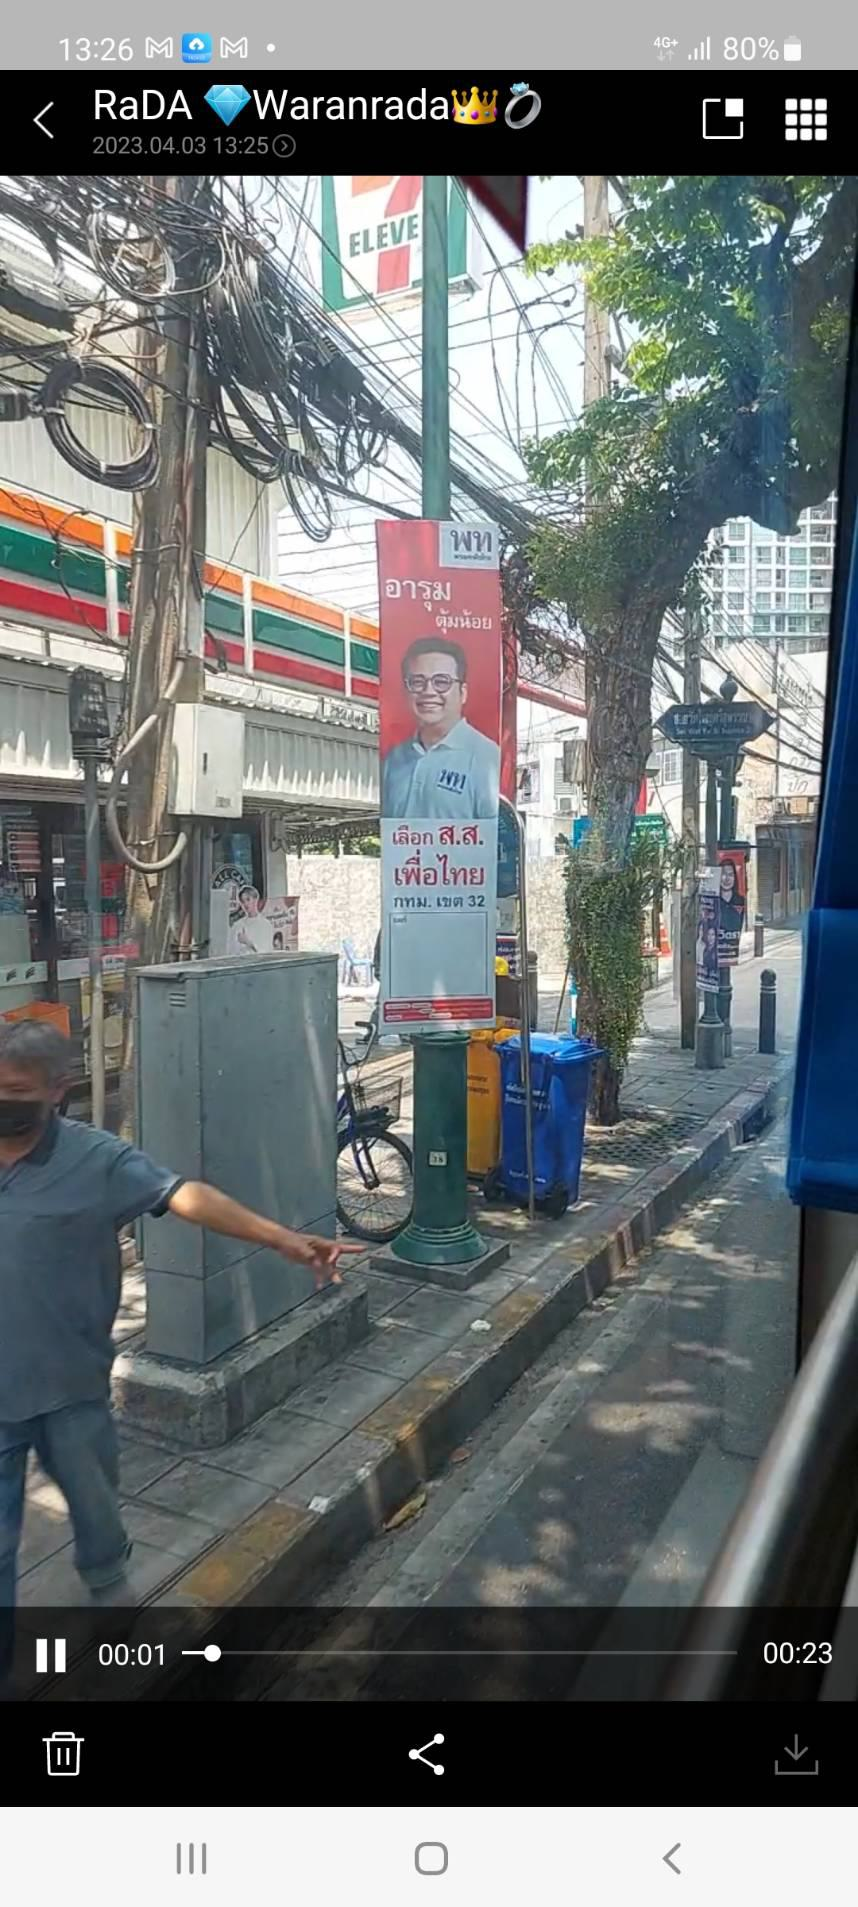Banner: (366, 510, 521, 1047)
